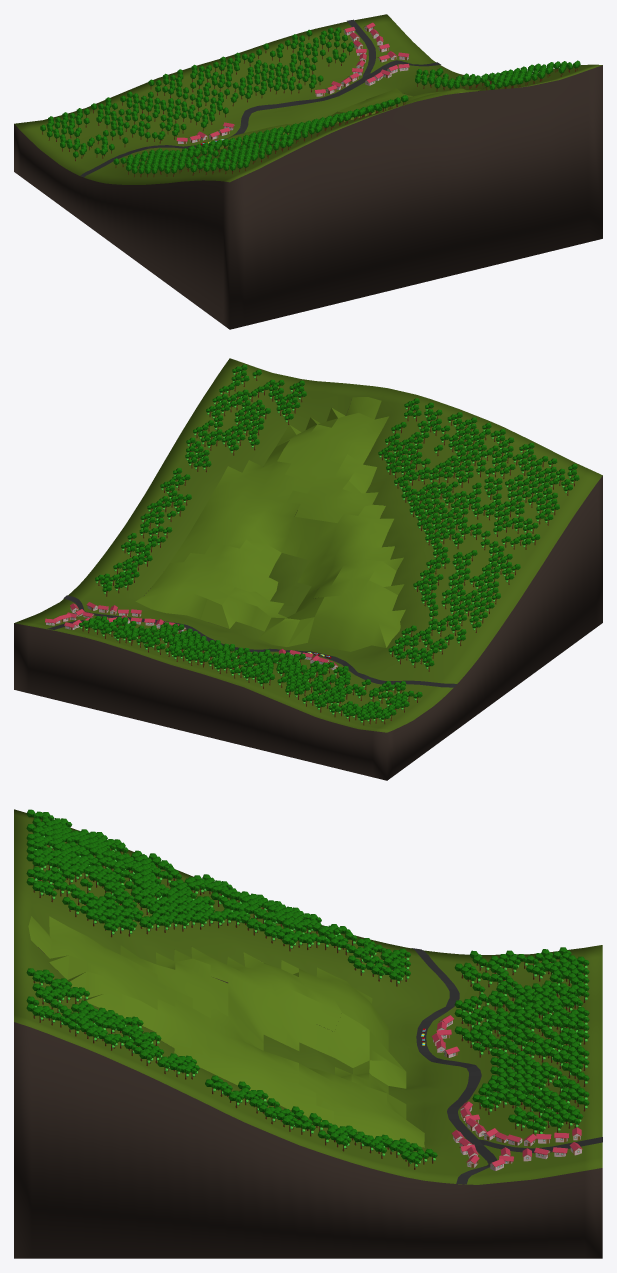
The model's file is Tanah_Longsor_Low.fbx.
3 renders of one model, top to bottom at view 1: azimuth 30°, elevation 25°; view 2: azimuth 150°, elevation 25°; view 3: azimuth 270°, elevation 25°, orthographic. The views are drawn at different scales.
Parts seen in each view (by area): view 1: Terrain, House, Road, Terrain.003; view 2: Terrain, Terrain.005, Terrain.004, Terrain.003, Terrain.007, Terrain.001, Terrain.002, Terrain.006, House, Road; view 3: Terrain, Terrain.005, Terrain.004, Terrain.007, Terrain.003, Terrain.002, Road, House, Terrain.006, Terrain.001.
Part boxes in pixels (x1,y1,x2,y2): Terrain: (14, 14, 602, 329); House: (176, 22, 409, 143); Road: (80, 19, 440, 177); Terrain.003: (338, 88, 412, 112); Terrain: (14, 358, 602, 780); Terrain.005: (170, 440, 308, 562); Terrain.004: (296, 504, 404, 598); Terrain.003: (135, 539, 281, 619); Terrain.007: (276, 397, 388, 493); Terrain.001: (287, 580, 405, 651); Terrain.002: (201, 587, 324, 646); Terrain.006: (286, 454, 378, 522); House: (45, 602, 338, 669); Road: (47, 595, 456, 687); Terrain: (14, 809, 602, 1258); Terrain.005: (122, 994, 333, 1124); Terrain.004: (174, 946, 341, 1050); Terrain.007: (28, 916, 192, 1015); Terrain.003: (299, 1063, 424, 1147); Terrain.002: (316, 1013, 406, 1119); Road: (412, 948, 602, 1184); House: (431, 1015, 582, 1170); Terrain.006: (120, 945, 228, 1017); Terrain.001: (299, 967, 405, 1071).
Bounding box in the file's own units: 200 × 94.85 × 200.
